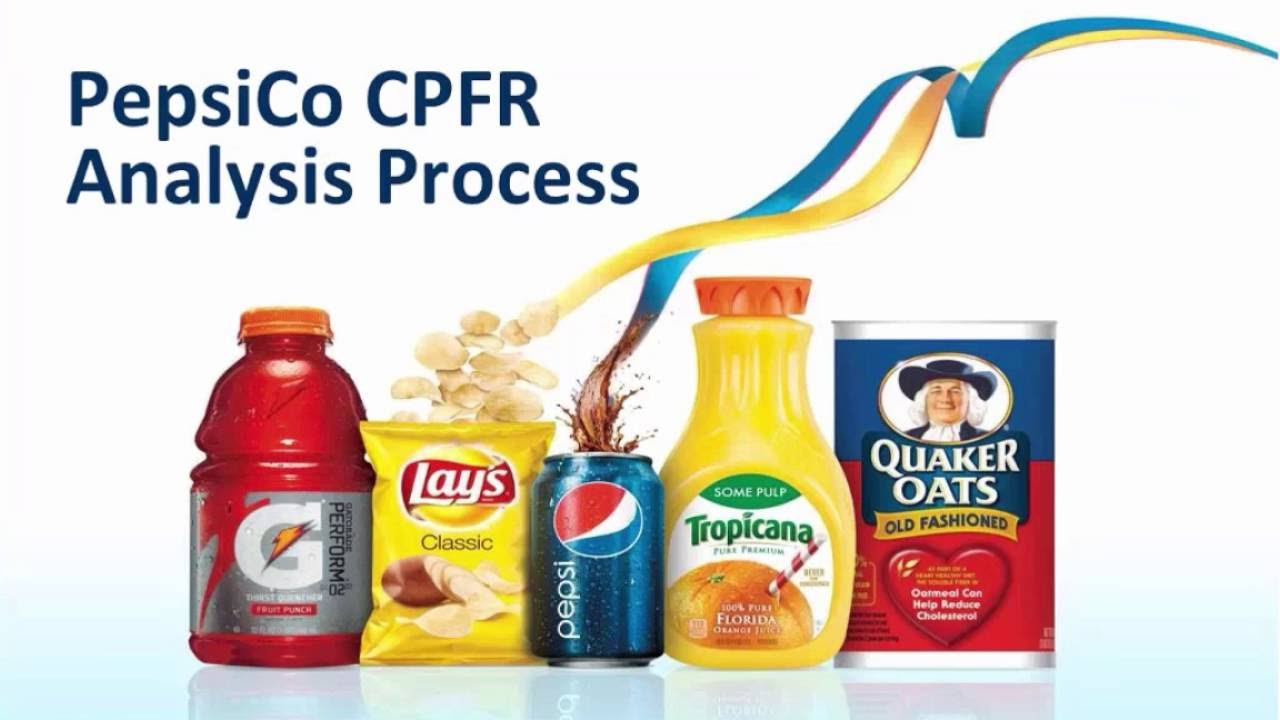pepsi: (551, 481, 643, 558)
